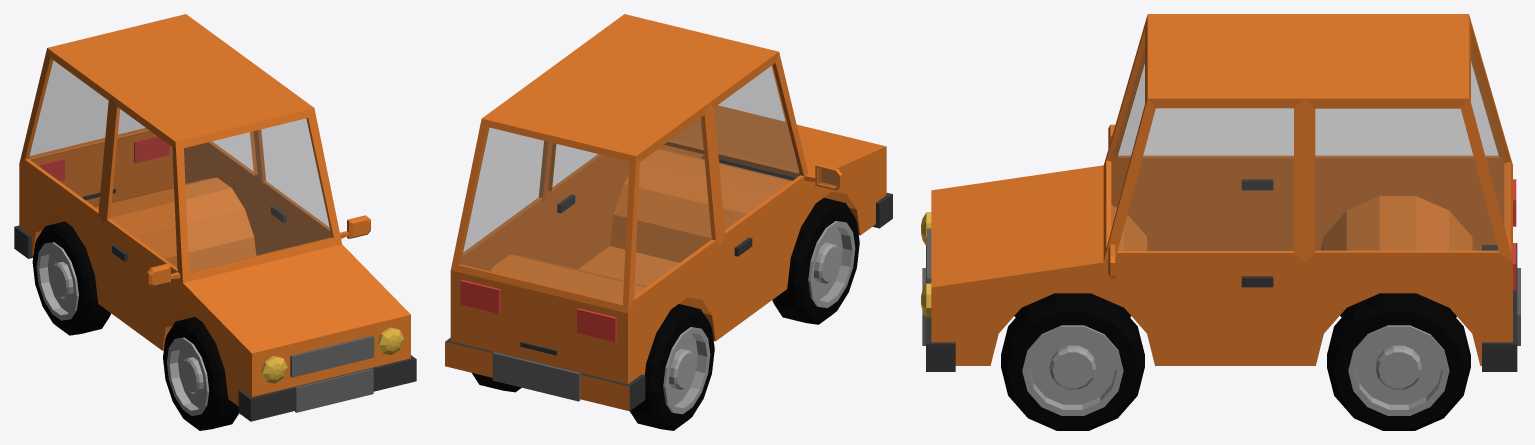
File: car_orange.gltf
3 renders of one model, left to right at view 1: azimuth 30°, elevation 25°; view 2: azimuth 150°, elevation 25°; view 3: azimuth 270°, elevation 25°, orthographic. The views are drawn at different scales.
Parts seen in each view (by area): view 1: Plane, Cylinder; view 2: Plane, Cylinder; view 3: Plane, Cylinder.
Part boxes in pixels (<box>): Plane: <box>14,14,416,421</box>; Cylinder: <box>32,221,238,430</box>; Plane: <box>445,14,892,411</box>; Cylinder: <box>472,198,859,430</box>; Plane: <box>921,14,1520,371</box>; Cylinder: <box>1001,293,1470,430</box>.
Bounding box in the file's own units: 2.23 × 2.49 × 4.16.
